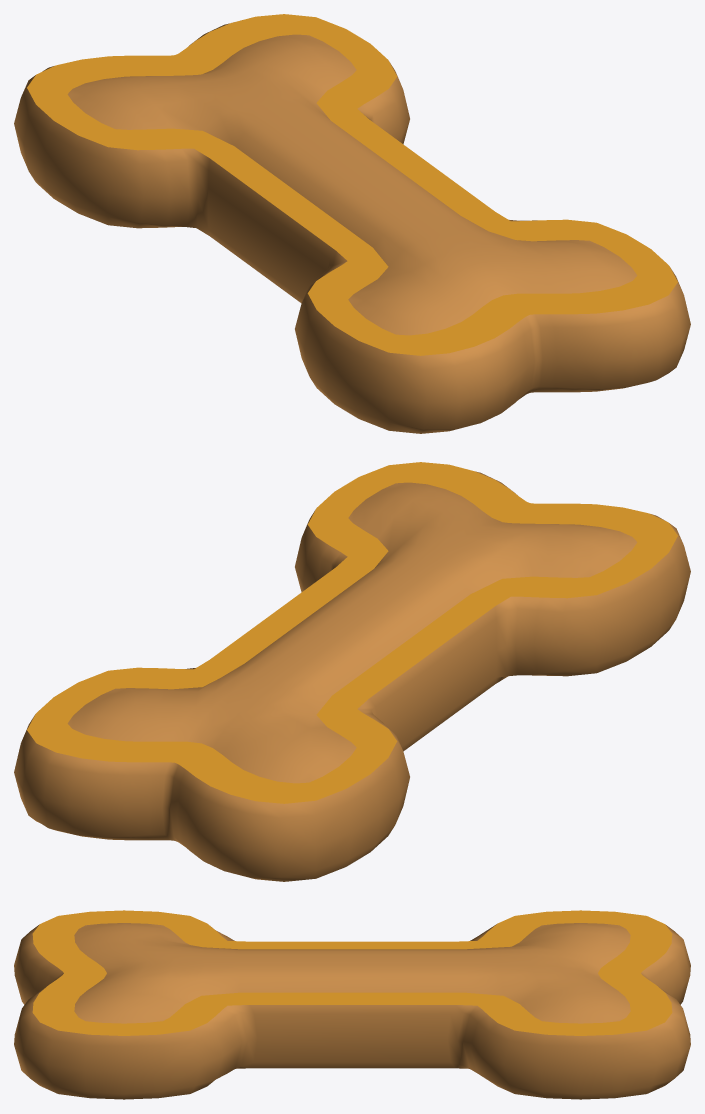
The model's file is SM_DogBone.fbx.
The picture shows the model from 3 angles, top to bottom: view 1: azimuth 30°, elevation 25°; view 2: azimuth 150°, elevation 25°; view 3: azimuth 270°, elevation 25°; orthographic projection. The views are drawn at different scales.
Parts seen in each view (by area): view 1: SM_DogBone; view 2: SM_DogBone; view 3: SM_DogBone.
Part boxes in pixels (x1,y1,x2,y2): SM_DogBone: (14,14,690,433); SM_DogBone: (14,462,690,881); SM_DogBone: (14,910,690,1099).
Size of the model in its own units: 20.29 by 6.37 by 43.47.
Materials: 1 (1 with a texture image).
